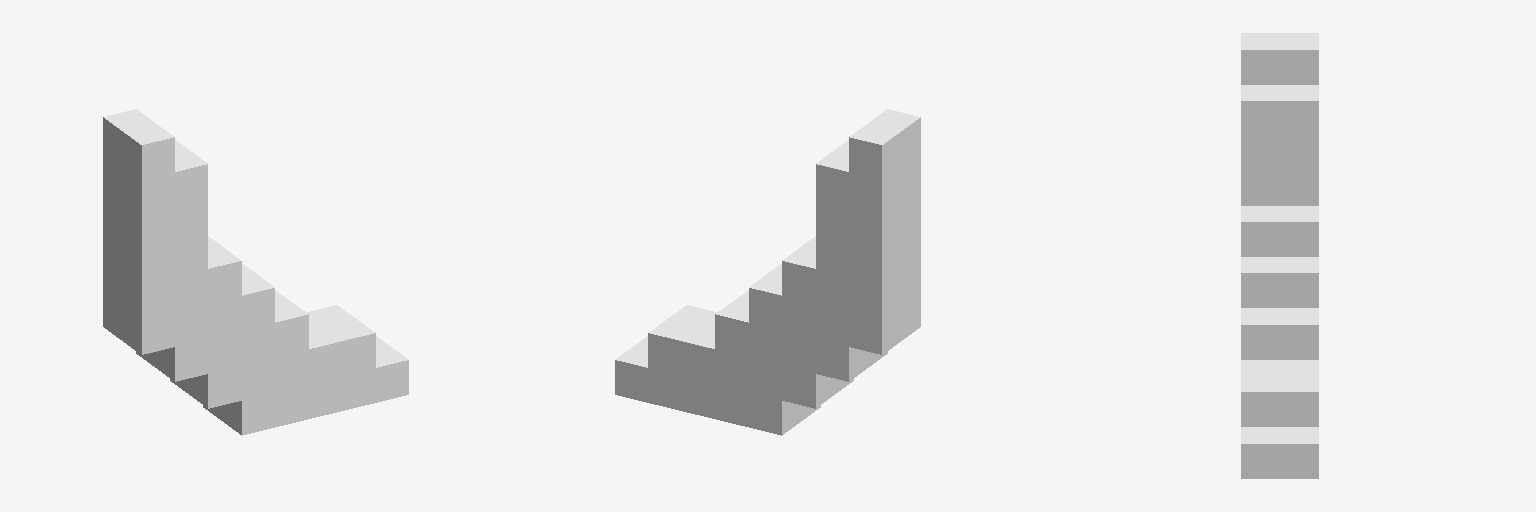
The model's file is Banana.obj.
3 views of the same model, side by side, from view 1: azimuth 30°, elevation 25°; view 2: azimuth 150°, elevation 25°; view 3: azimuth 270°, elevation 25° (orthographic).
Visible parts, largest first — view 1: object 1; view 2: object 1; view 3: object 1.
Boxes of the visible parts, box(x1,y1,x2,y2) form: object 1: box(103, 109, 408, 435); object 1: box(615, 109, 920, 435); object 1: box(1241, 33, 1318, 478).
Size of the model in its own units: 0.8 by 0.9 by 0.2.